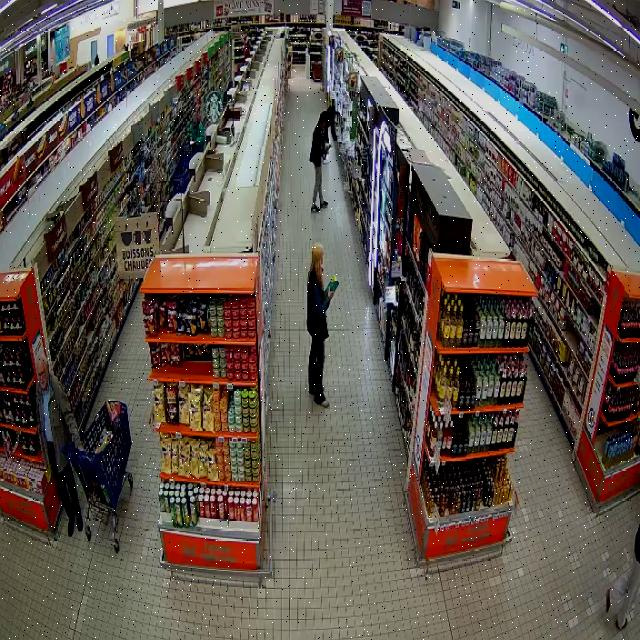article: (323, 275, 340, 302)
hands: (329, 290, 335, 299), (325, 143, 332, 150)
person: (36, 352, 83, 536), (306, 243, 335, 407), (309, 116, 327, 211)
